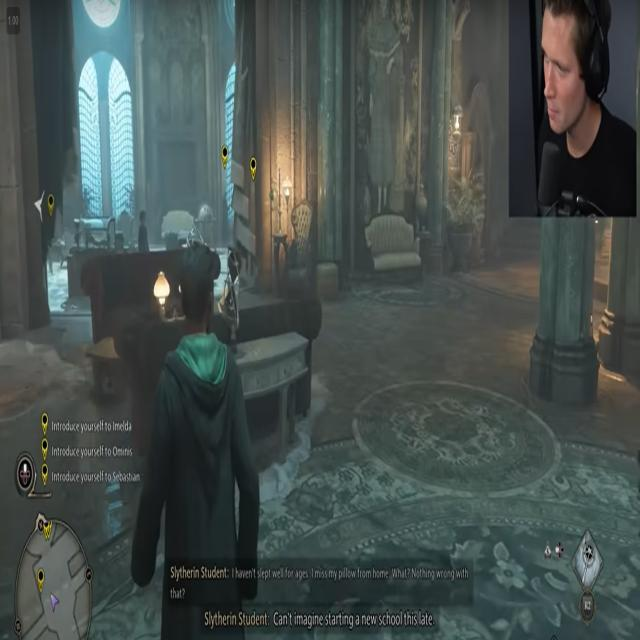compass: (40, 463, 49, 488), (221, 144, 229, 171), (40, 438, 49, 462), (37, 568, 45, 594), (41, 412, 49, 437), (250, 156, 257, 183), (43, 521, 50, 542), (48, 194, 54, 217), (47, 520, 53, 541)
